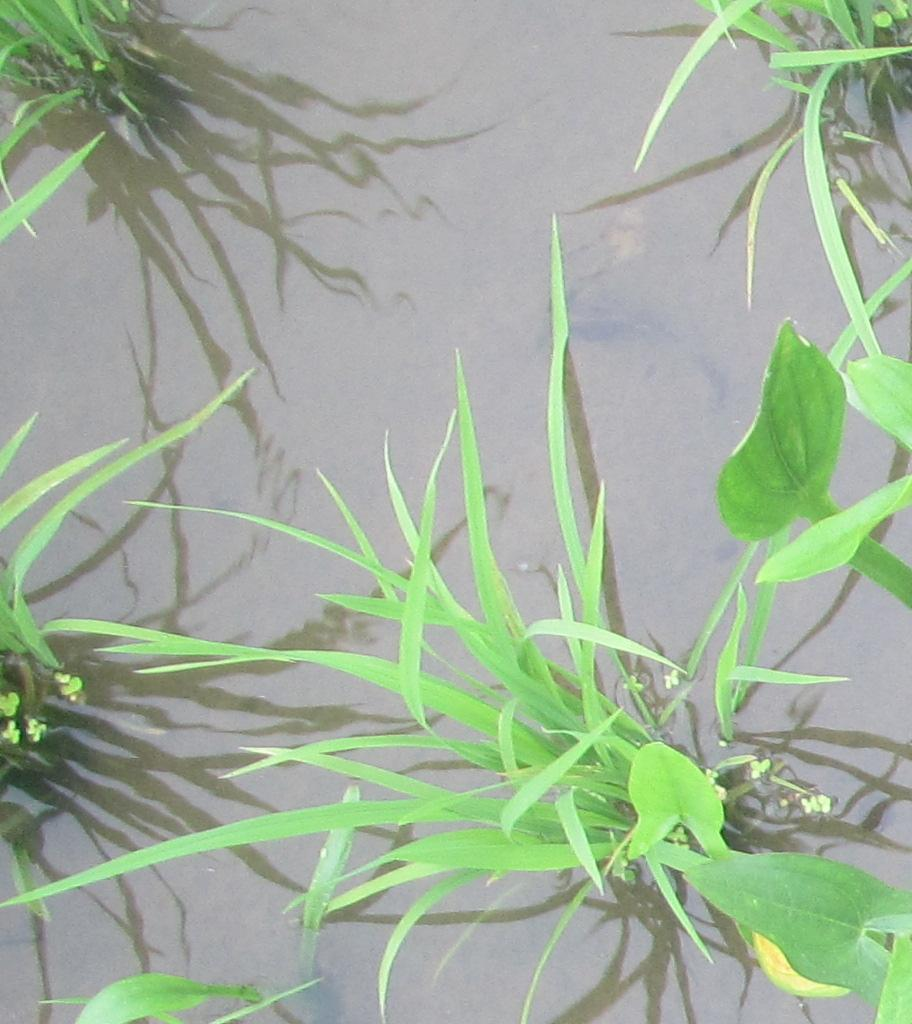Weed: (708, 316, 899, 597), (677, 849, 892, 983), (603, 728, 728, 850)
